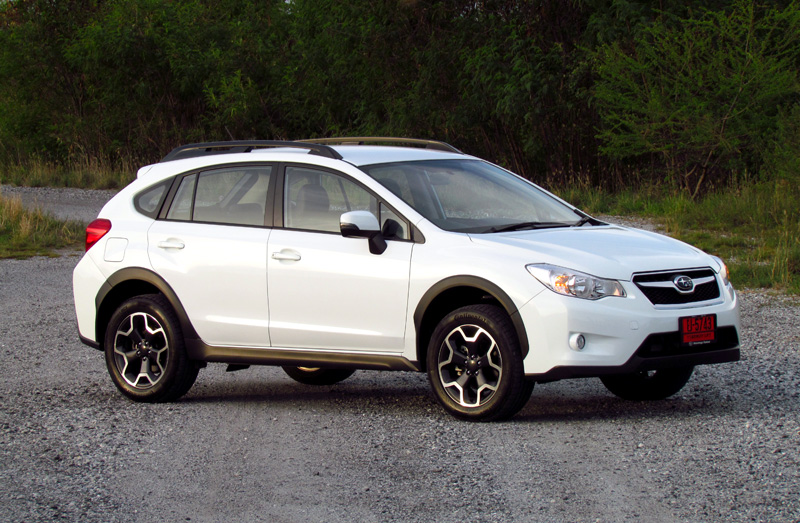pickup: (70, 134, 745, 422)
